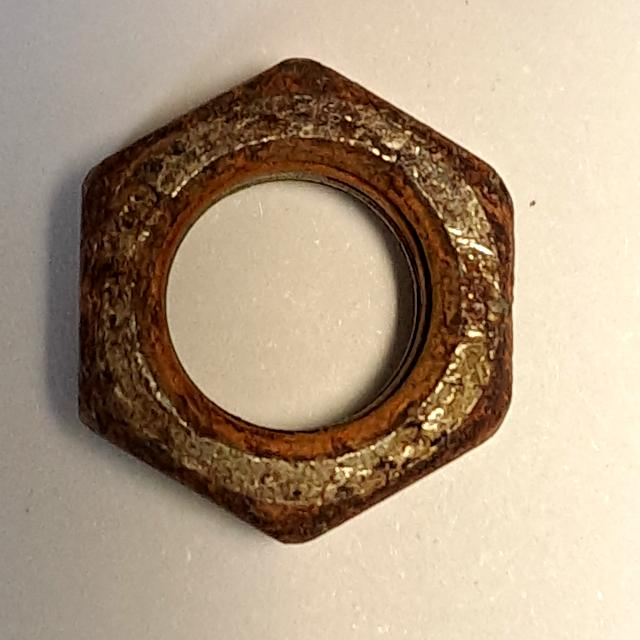Rust: (64, 36, 528, 564)
